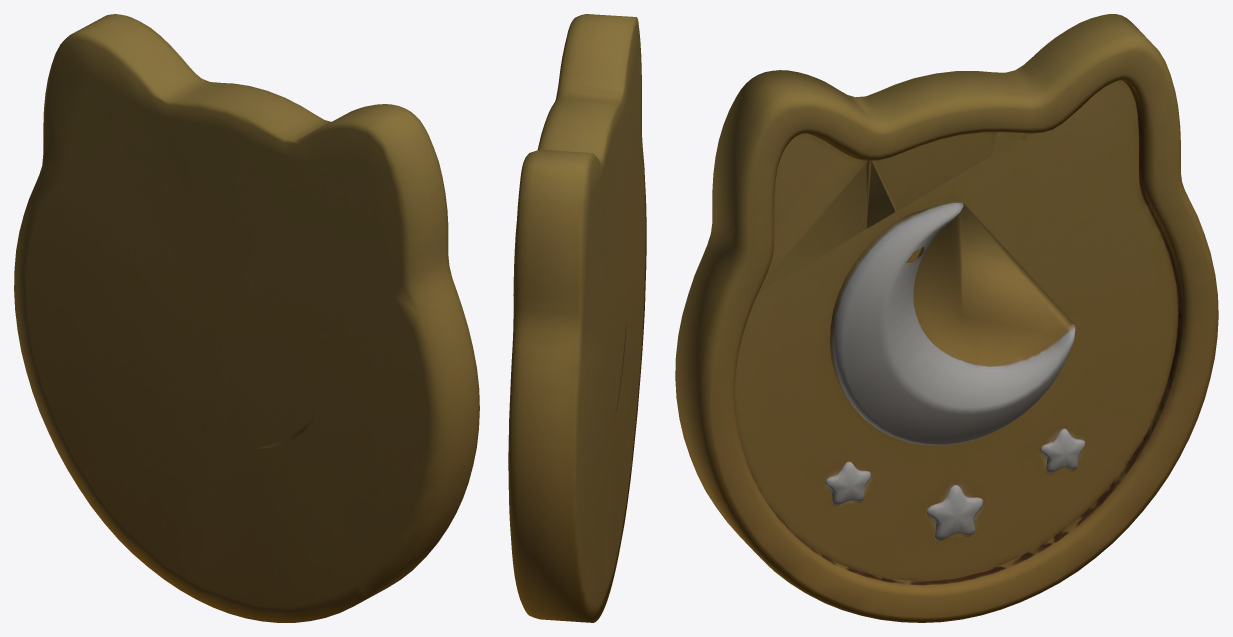
The model's file is give-up-bus-pass.glb.
3 views of the same model, side by side, from view 1: azimuth 30°, elevation 25°; view 2: azimuth 150°, elevation 25°; view 3: azimuth 270°, elevation 25° (orthographic). The views are drawn at different scales.
Visible parts, largest first — view 1: tripo_node_11f93d35-4da4-4103-a631-a5671d6a9de7; view 2: tripo_node_11f93d35-4da4-4103-a631-a5671d6a9de7; view 3: tripo_node_11f93d35-4da4-4103-a631-a5671d6a9de7.
Part boxes in pixels (<box>): tripo_node_11f93d35-4da4-4103-a631-a5671d6a9de7: <box>14,14,479,622</box>; tripo_node_11f93d35-4da4-4103-a631-a5671d6a9de7: <box>508,14,646,622</box>; tripo_node_11f93d35-4da4-4103-a631-a5671d6a9de7: <box>675,14,1218,622</box>.
Size of the model in its own units: 0.4463 by 0.9995 by 0.892.
Materials: 1 (1 with a texture image).
